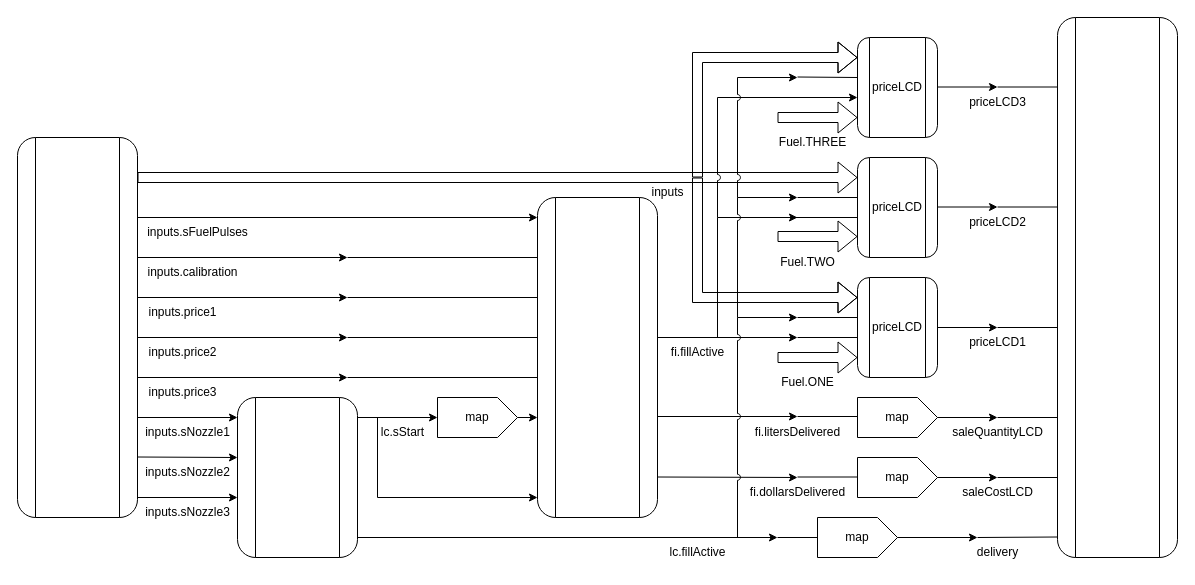
Image size: 1195x585. Some labels were removed from this diagram. Here are the shapes that lost their labels. From the top down, the centre of each, then its label:
At point 1117,287: "Output".
At point 77,327: "Input".
At point 597,357: "Fill".
At point 297,477: "LifeCycle".
